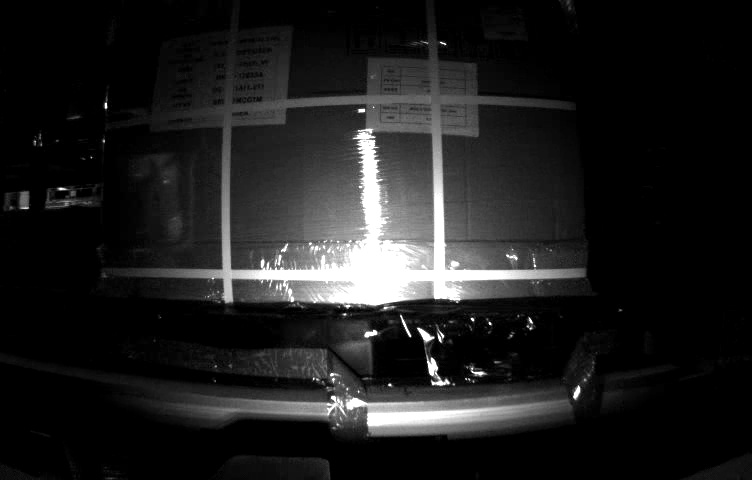True Barcode: (482, 2, 539, 40)
